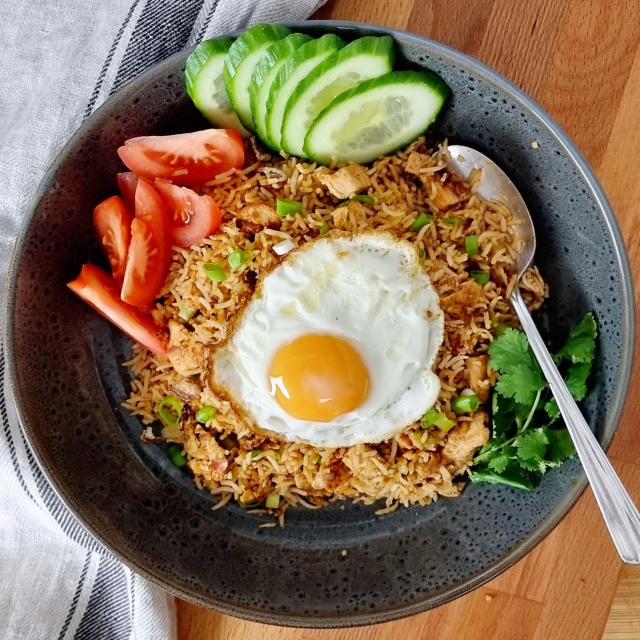Nasi Goreng: (135, 162, 535, 524)
